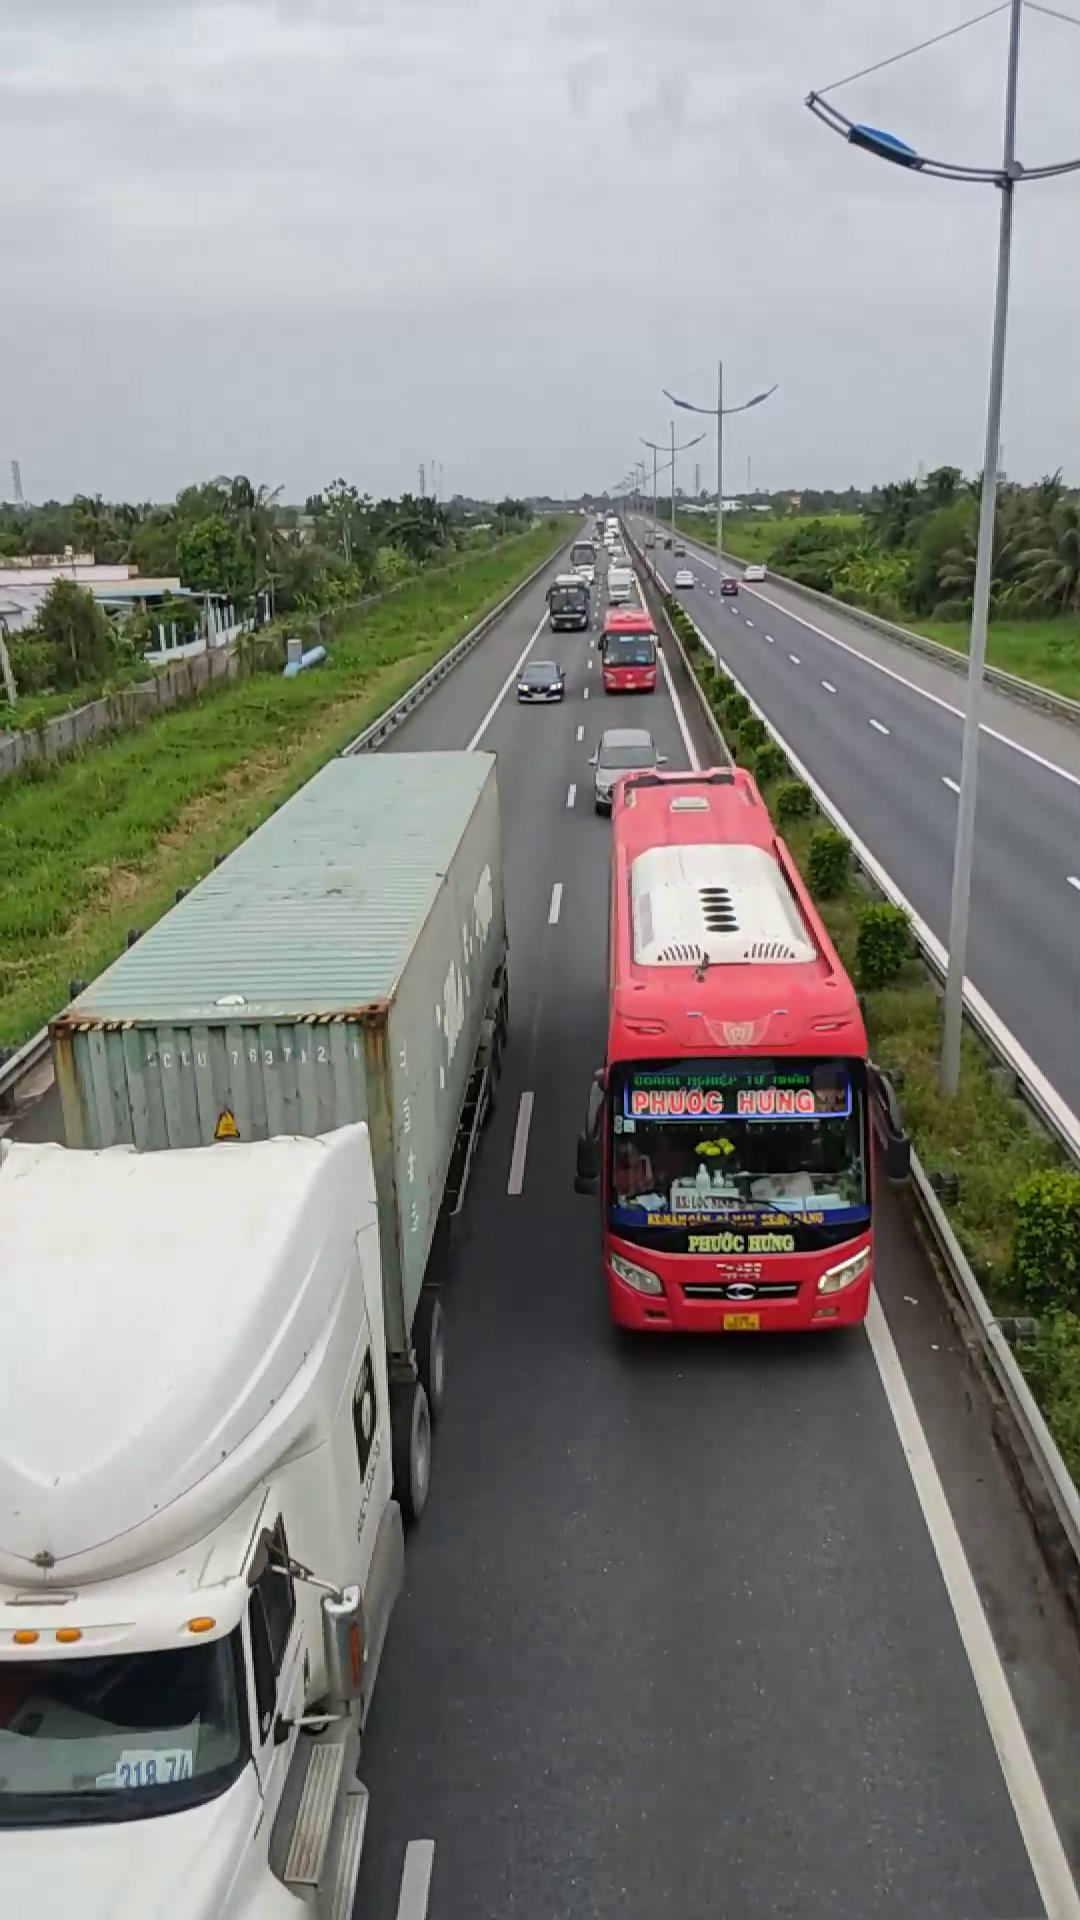bus: (591, 757, 885, 1336)
container: (0, 740, 521, 1913)
